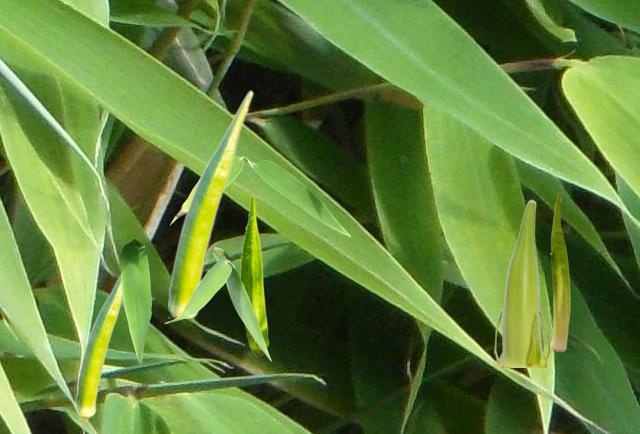okra: (168, 89, 252, 317), (493, 199, 548, 366), (75, 273, 122, 419), (240, 194, 268, 356), (550, 192, 569, 350)
